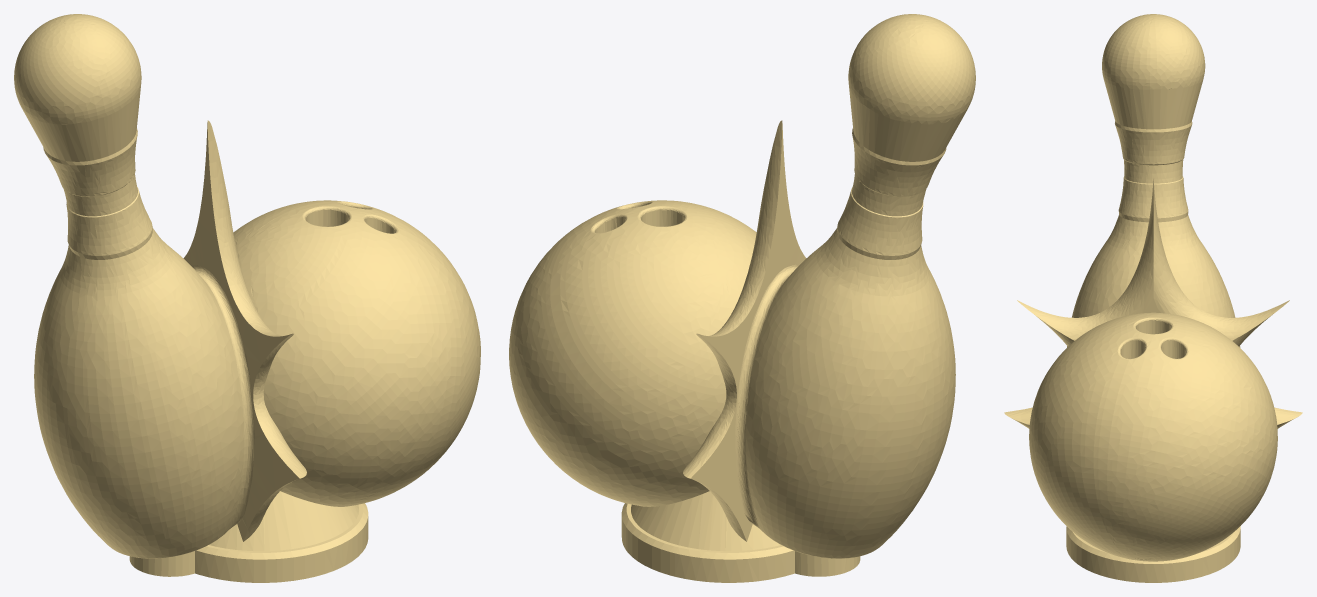
Rendered from Trophy Bowling.fbx.
3 renders of one model, left to right at view 1: azimuth 30°, elevation 25°; view 2: azimuth 150°, elevation 25°; view 3: azimuth 270°, elevation 25°, orthographic. The views are drawn at different scales.
Visible parts, largest first — view 1: Object.049; view 2: Object.049; view 3: Object.049.
Part boxes in pixels (x1,y1,x2,y2): Object.049: [14, 14, 480, 582]; Object.049: [509, 14, 975, 582]; Object.049: [1004, 14, 1302, 582].
Bounding box in the file's own units: 482 × 591 × 352.
